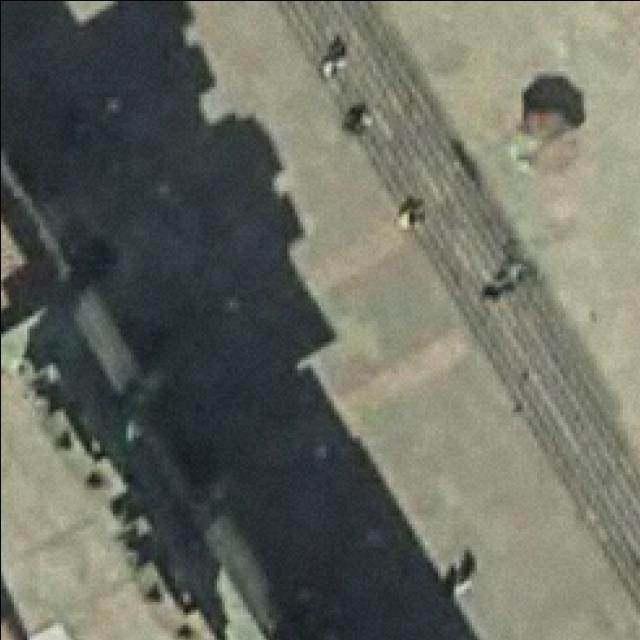vendedor_ambulante: (503, 108, 583, 178)
